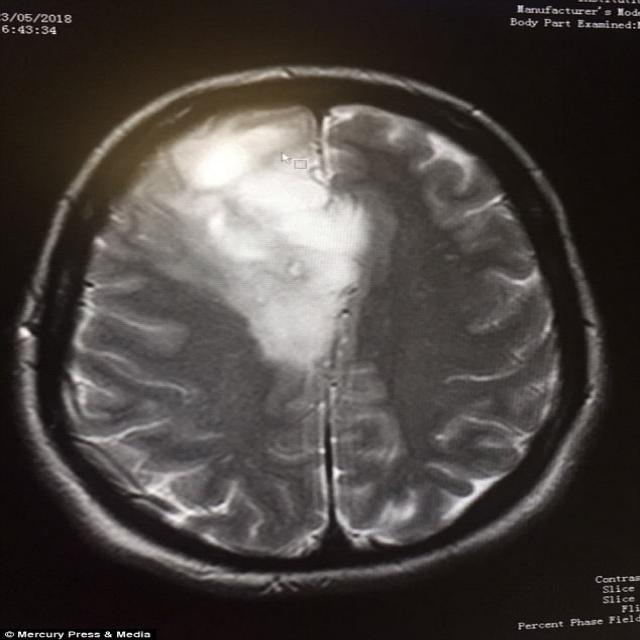Tumor-Cell: (165, 130, 396, 360)
